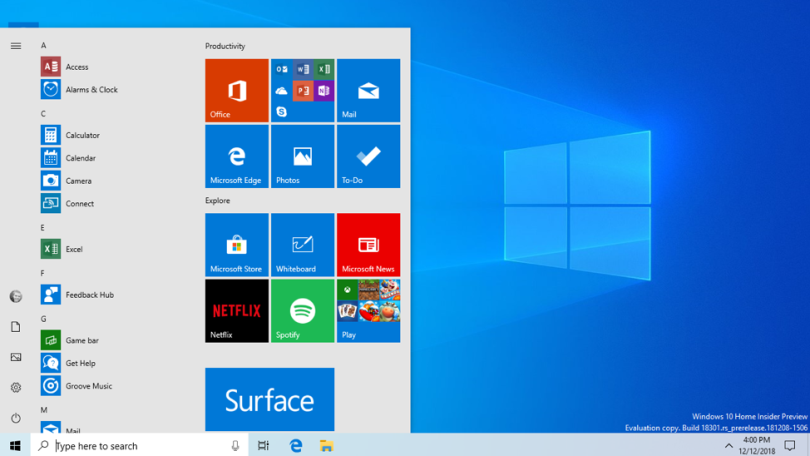search_box: (31, 433, 252, 456)
start_bar: (7, 436, 27, 456)
